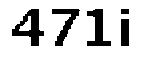1: (84, 6, 112, 50)
4: (7, 6, 45, 50)
7: (50, 5, 84, 53)
i: (117, 3, 136, 51)
